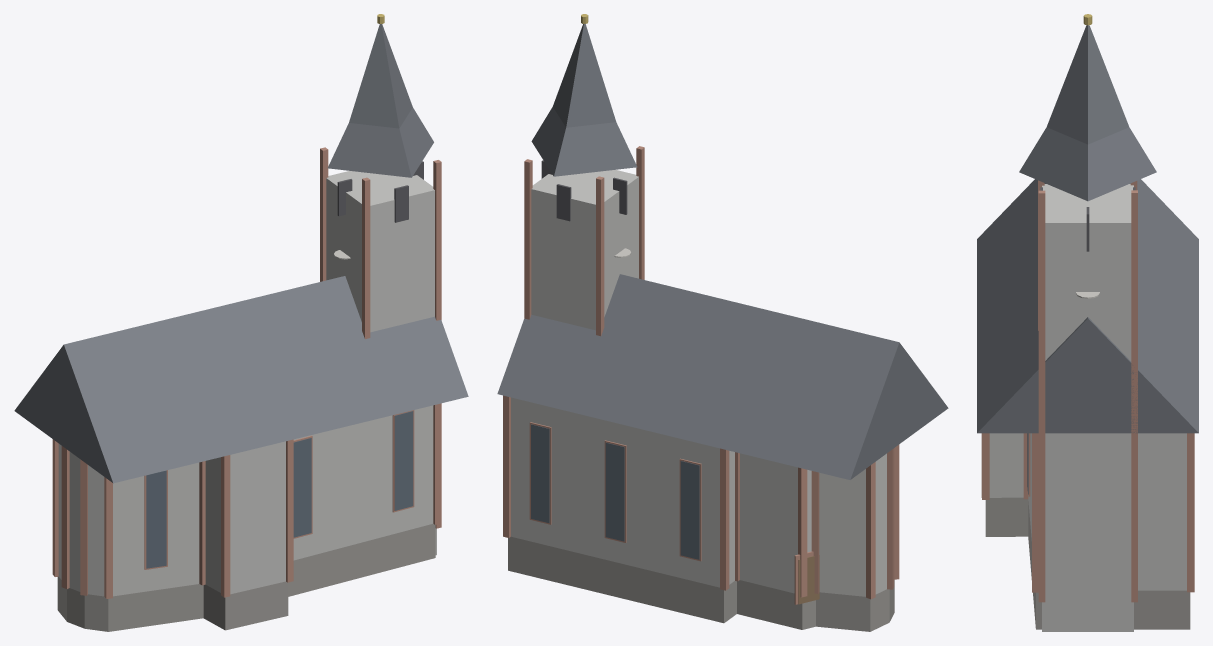
The model's file is landmark-church-431224179.glb.
3 renders of one model, left to right at view 1: azimuth 30°, elevation 25°; view 2: azimuth 150°, elevation 25°; view 3: azimuth 270°, elevation 25°, orthographic. The views are drawn at different scales.
Parts seen in each view (by area): view 1: building; view 2: building; view 3: building.
Part boxes in pixels (box(x1,y1,x2,y2)): building: box(14, 14, 468, 631); building: box(497, 14, 948, 631); building: box(977, 14, 1198, 631).
Bounding box in the file's own units: 27.74 × 38.15 × 12.85.
